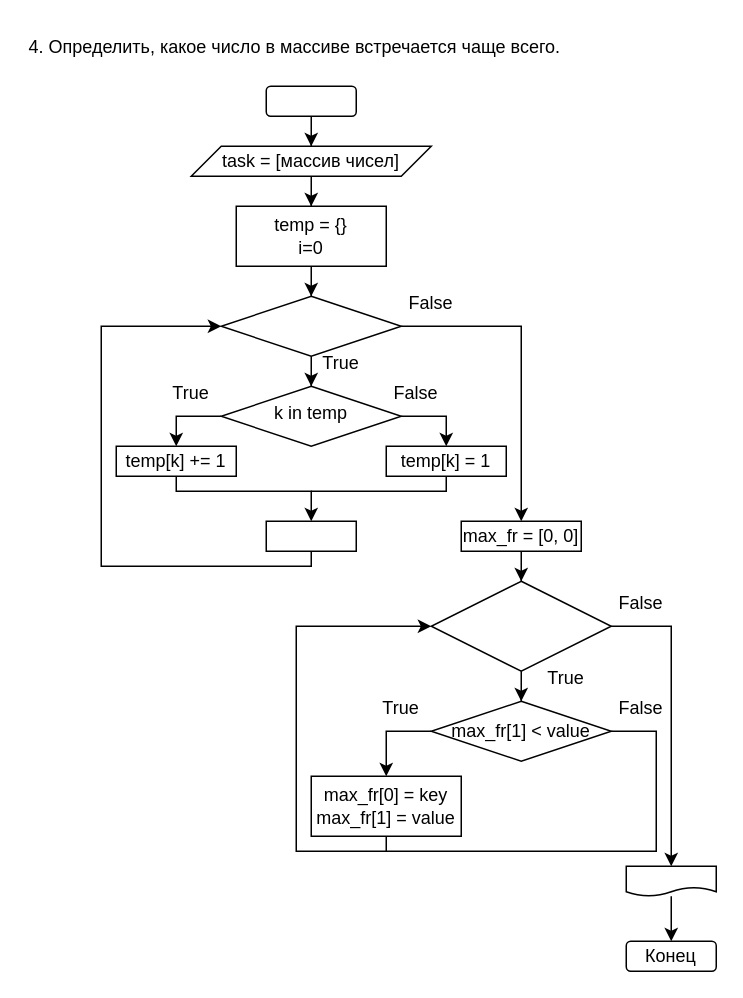
Image size: 743x998. Some labels were removed from this diagram. Each missing label, with the centre of its shape:
"i+=1" belongs at [310,535].
"i<len[task]" belongs at [310,325].
"key, value in temp.items()" belongs at [520,625].
"max_fr[0]" belongs at [670,880].
"Начало" belongs at [310,100].
